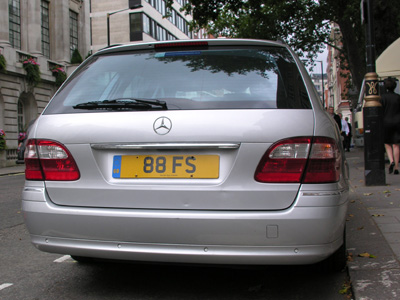licencePlate: (113, 155, 220, 177)
